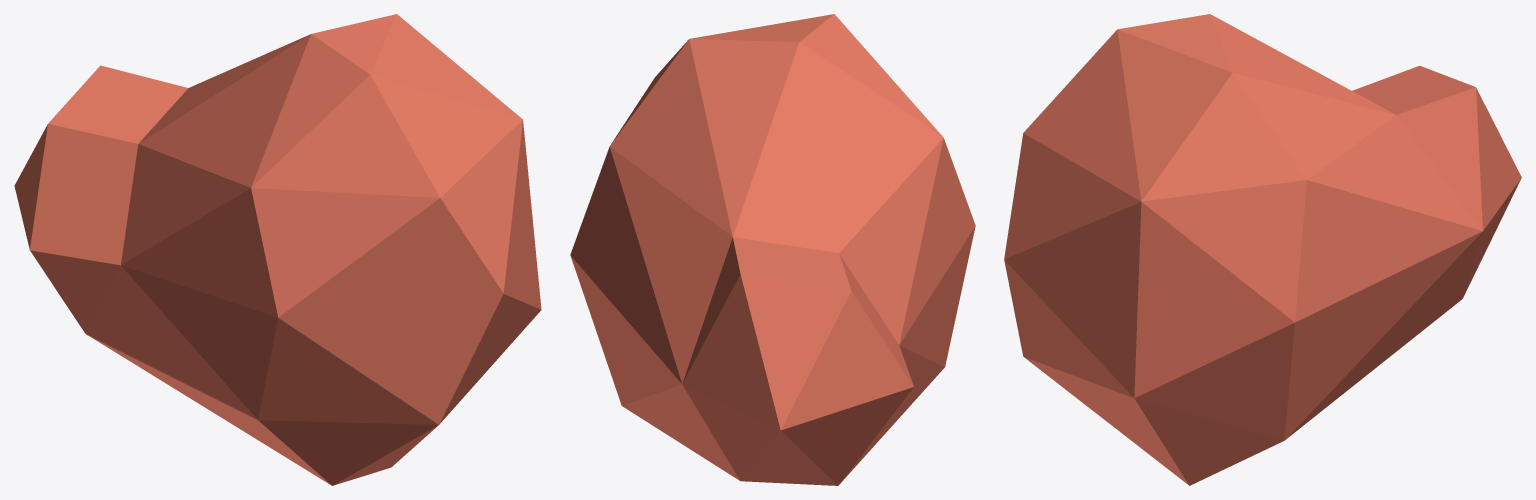
The model's file is 01_01Rock_Red.fbx.
The picture shows the model from 3 angles, left to right: view 1: azimuth 30°, elevation 25°; view 2: azimuth 150°, elevation 25°; view 3: azimuth 270°, elevation 25°; orthographic projection. The views are drawn at different scales.
Parts seen in each view (by area): view 1: Icosphere.022; view 2: Icosphere.022; view 3: Icosphere.022.
Part boxes in pixels (bbox=[...]): Icosphere.022: bbox=[14, 14, 541, 485]; Icosphere.022: bbox=[570, 14, 975, 485]; Icosphere.022: bbox=[1004, 14, 1521, 485].
Size of the model in its own units: 116 by 126 by 135.
